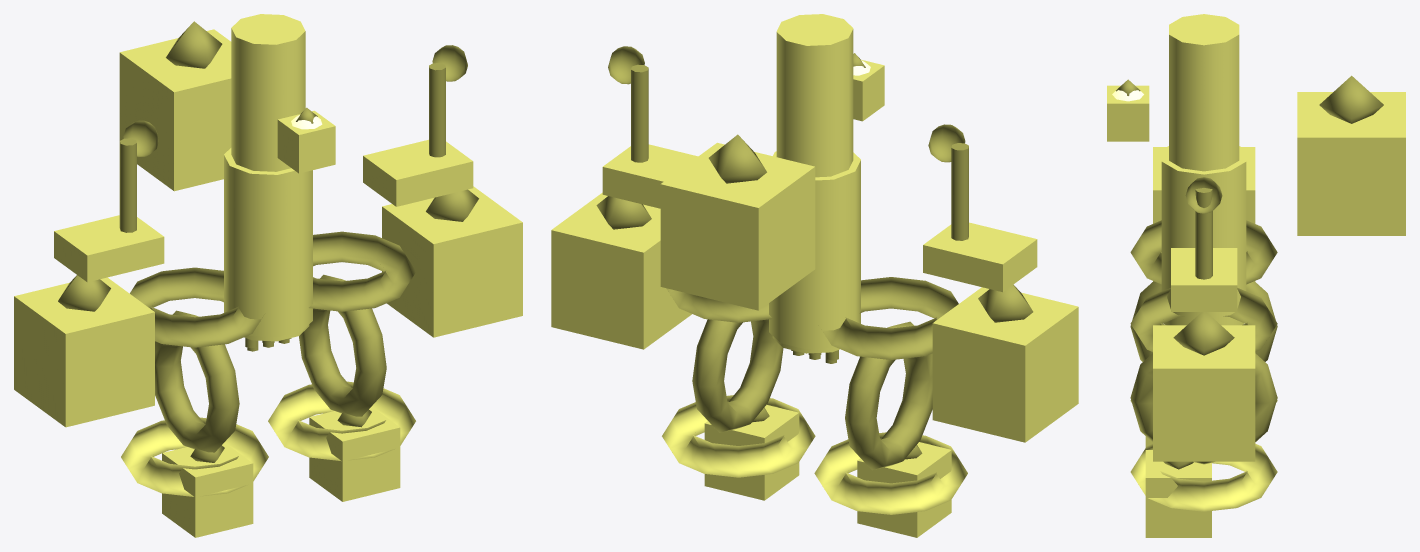
Rendered from golem_019.glb.
3 views of the same model, side by side, from view 1: azimuth 30°, elevation 25°; view 2: azimuth 150°, elevation 25°; view 3: azimuth 270°, elevation 25° (orthographic). The views are drawn at different scales.
Parts seen in each view (by area): view 1: Body, Detail; view 2: Body, Detail; view 3: Body, Detail.
Boxes of the visible parts, box(x1,y1,x2,y2) form: Body: box(14, 14, 522, 537); Detail: box(58, 21, 478, 462); Body: box(551, 14, 1078, 537); Detail: box(596, 46, 1033, 470); Body: box(1107, 14, 1405, 537); Detail: box(1116, 75, 1383, 469).
Bounding box in the file's own units: 1.3 × 1.26 × 0.744.
